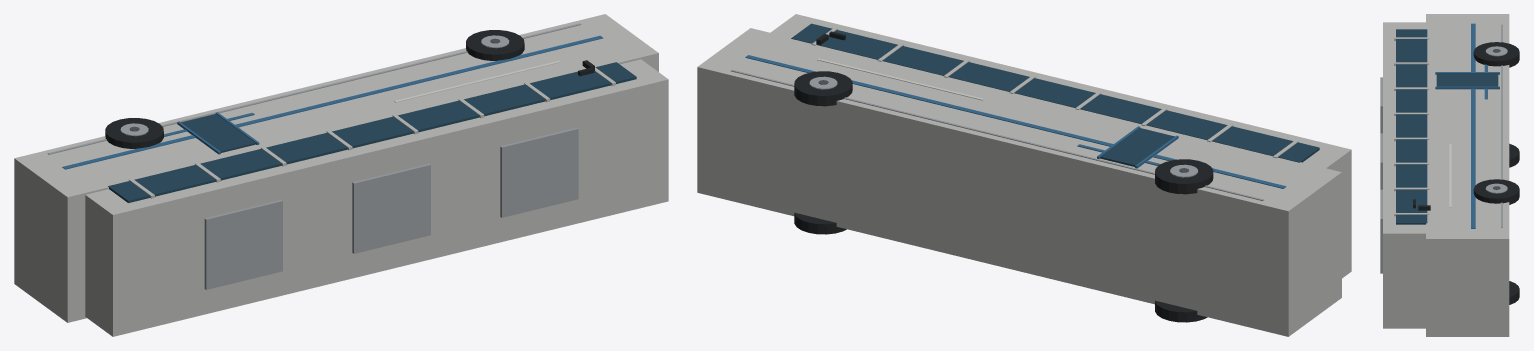
File: RM_Bus_49.glb
The picture shows the model from 3 angles, left to right: view 1: azimuth 30°, elevation 25°; view 2: azimuth 150°, elevation 25°; view 3: azimuth 270°, elevation 25°; orthographic projection. The views are drawn at different scales.
Parts seen in each view (by area): view 1: part_001, part_000, part_002, part_038, part_037, part_039, part_013, part_040, part_024, part_030, part_014; view 2: part_000, part_002, part_001, part_013, part_040, part_030, part_024, part_014, part_027, part_021; view 3: part_000, part_001, part_002, part_013, part_040, part_030, part_024, part_014, part_039, part_042, part_021, part_027 (+6 smaller).
Part boxes in pixels (x1,y1,x2,y2): part_001: [85, 59, 668, 336]; part_000: [14, 14, 658, 322]; part_002: [108, 62, 636, 202]; part_038: [352, 163, 430, 253]; part_037: [204, 199, 282, 289]; part_039: [500, 127, 578, 217]; part_013: [62, 35, 602, 169]; part_040: [181, 114, 255, 152]; part_024: [105, 118, 163, 148]; part_030: [466, 30, 524, 60]; part_014: [47, 23, 581, 154]; part_000: [697, 28, 1341, 336]; part_002: [791, 23, 1319, 162]; part_001: [770, 14, 1351, 278]; part_013: [745, 55, 1286, 188]; part_040: [1100, 128, 1174, 166]; part_030: [794, 71, 852, 106]; part_024: [1155, 159, 1213, 194]; part_014: [731, 69, 1264, 200]; part_027: [794, 212, 846, 234]; part_021: [1155, 300, 1207, 322]; part_000: [1426, 14, 1509, 336]; part_001: [1383, 22, 1425, 328]; part_002: [1396, 29, 1427, 224]; part_013: [1471, 23, 1475, 228]; part_040: [1436, 73, 1498, 86]; part_030: [1473, 179, 1519, 204]; part_024: [1473, 42, 1519, 67]; part_014: [1501, 24, 1502, 227]; part_039: [1380, 189, 1382, 273]; part_042: [1435, 86, 1499, 89]; part_021: [1509, 143, 1519, 167]; part_027: [1509, 281, 1519, 304].
Size of the model in its own units: 12.06 by 2.77 by 3.16.
